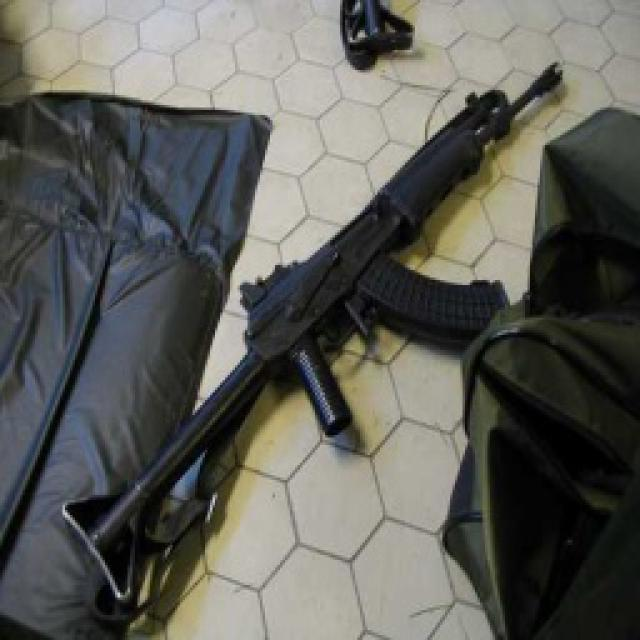long weapon: (27, 25, 599, 625)
